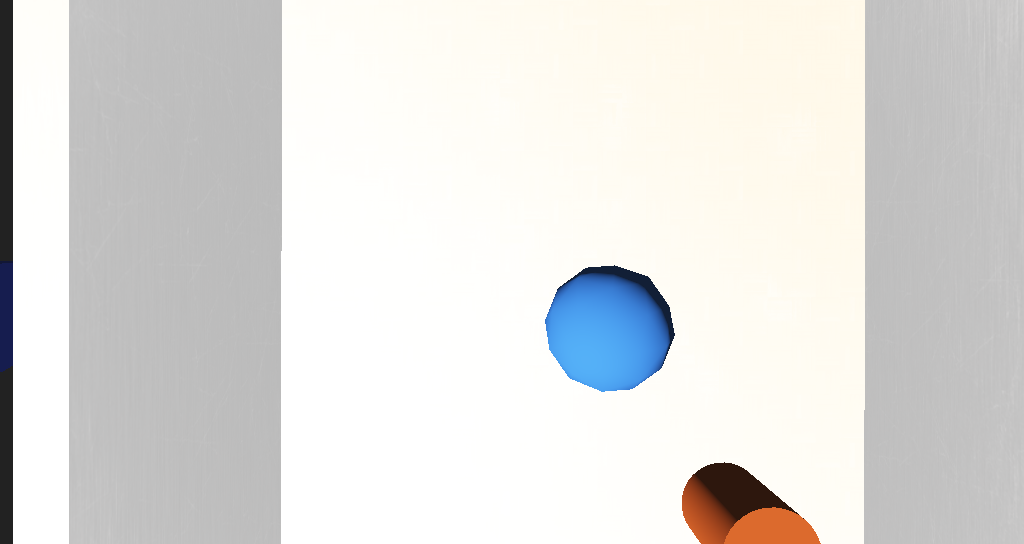cone: (559, 339, 613, 377)
cylinder: (128, 246, 263, 308)
sphere: (485, 262, 552, 310)
